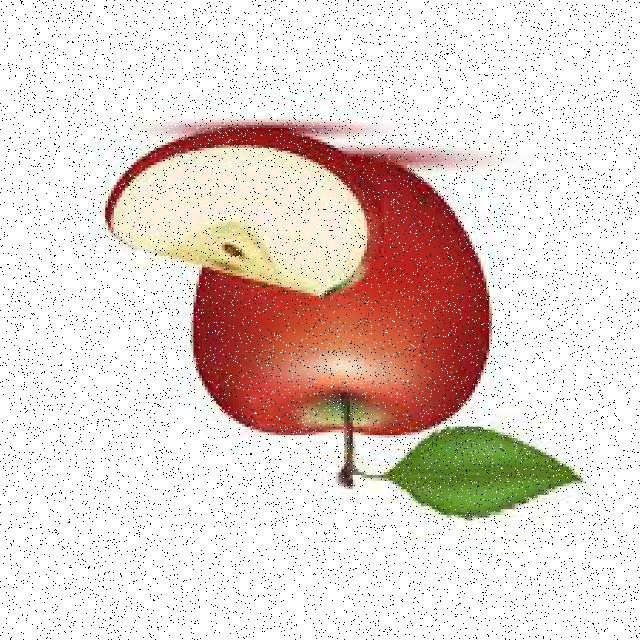Apple: (191, 159, 497, 526), (89, 127, 379, 285)
